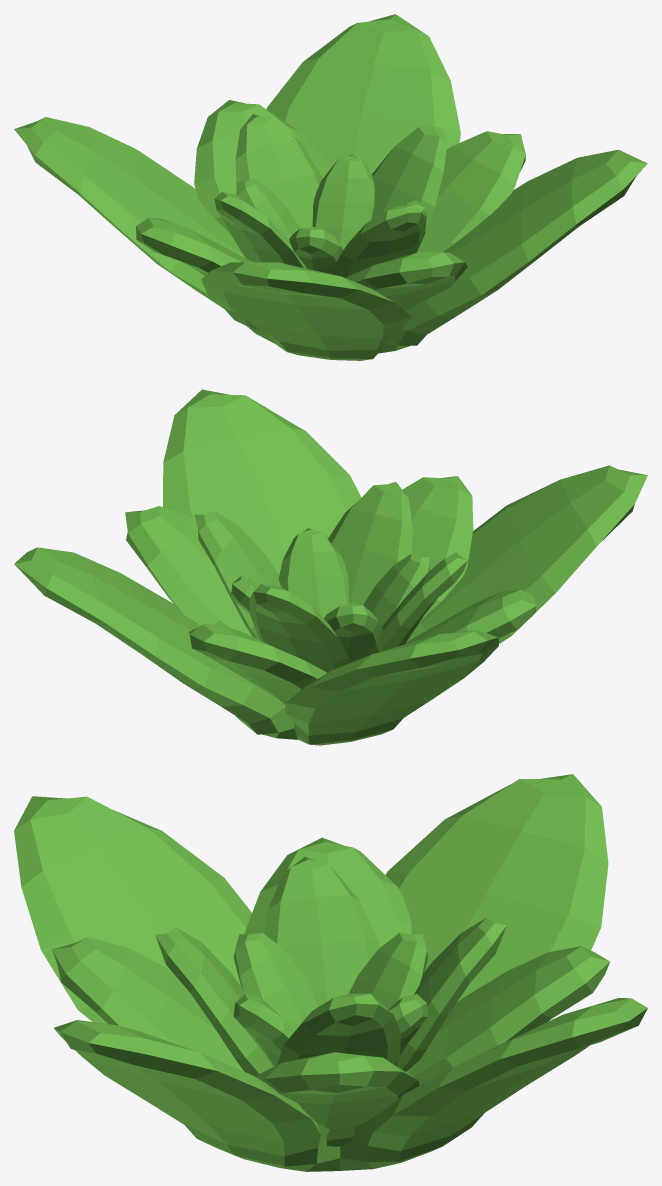
File: nature-cactusflower-1.glb
3 views of the same model, one above another, from view 1: azimuth 30°, elevation 25°; view 2: azimuth 150°, elevation 25°; view 3: azimuth 270°, elevation 25° (orthographic). The views are drawn at different scales.
Parts seen in each view (by area): view 1: CactusFlower_1; view 2: CactusFlower_1; view 3: CactusFlower_1.
Part boxes in pixels (left/top/right/bottom): CactusFlower_1: left=14, top=14, right=647, bottom=360; CactusFlower_1: left=14, top=389, right=647, bottom=745; CactusFlower_1: left=14, top=774, right=647, bottom=1171.
Bounding box in the file's own units: 88.19 × 36.13 × 86.83.
